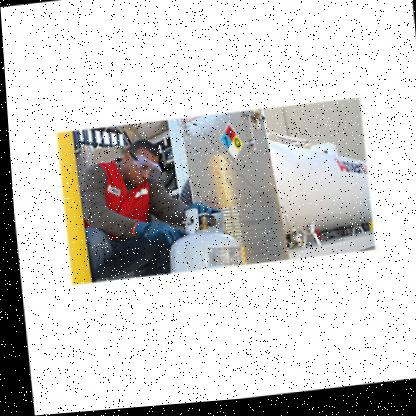gas-tank: (165, 189, 240, 293)
